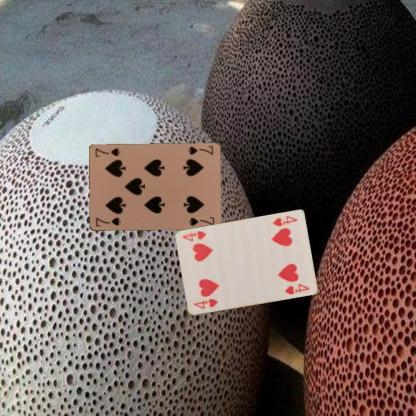4h: (271, 213, 298, 228), (191, 296, 219, 310)
7s: (93, 215, 122, 228), (185, 143, 214, 156)
